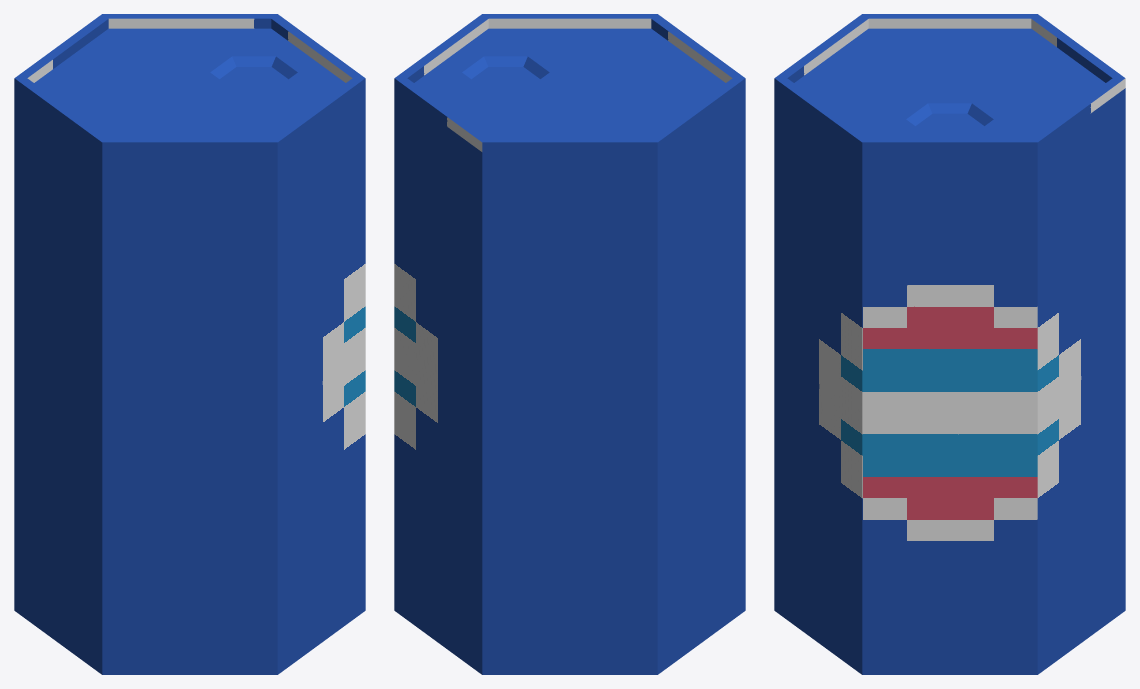
Rendered from can.glb.
3 renders of one model, left to right at view 1: azimuth 30°, elevation 25°; view 2: azimuth 150°, elevation 25°; view 3: azimuth 270°, elevation 25°, orthographic.
Visible parts, largest first — view 1: Can; view 2: Can; view 3: Can.
Boxes of the visible parts, x1,y1,x2,y2 form: Can: (14, 14, 365, 674); Can: (394, 14, 745, 674); Can: (774, 14, 1125, 674).
Bounding box in the file's own units: 0.3963 × 0.7658 × 0.4576.
Materials: 1 (1 with a texture image).
